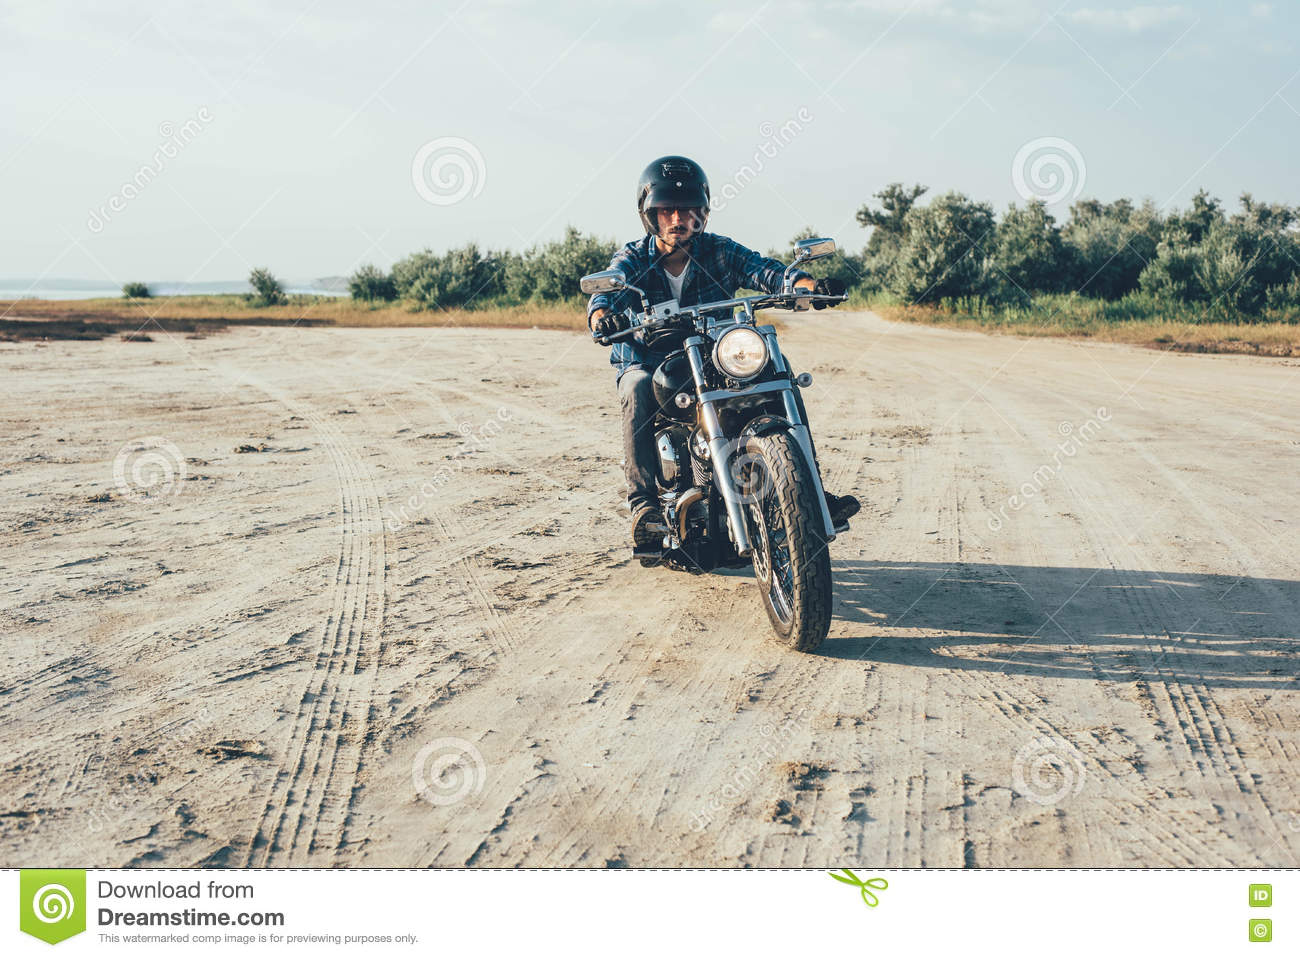helmet: (541, 254, 757, 393), (637, 148, 721, 216)
